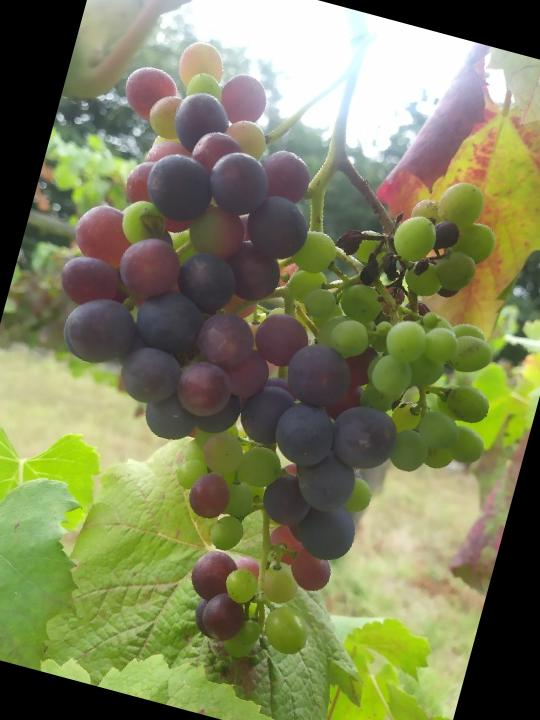grape: (0, 17, 540, 710)
